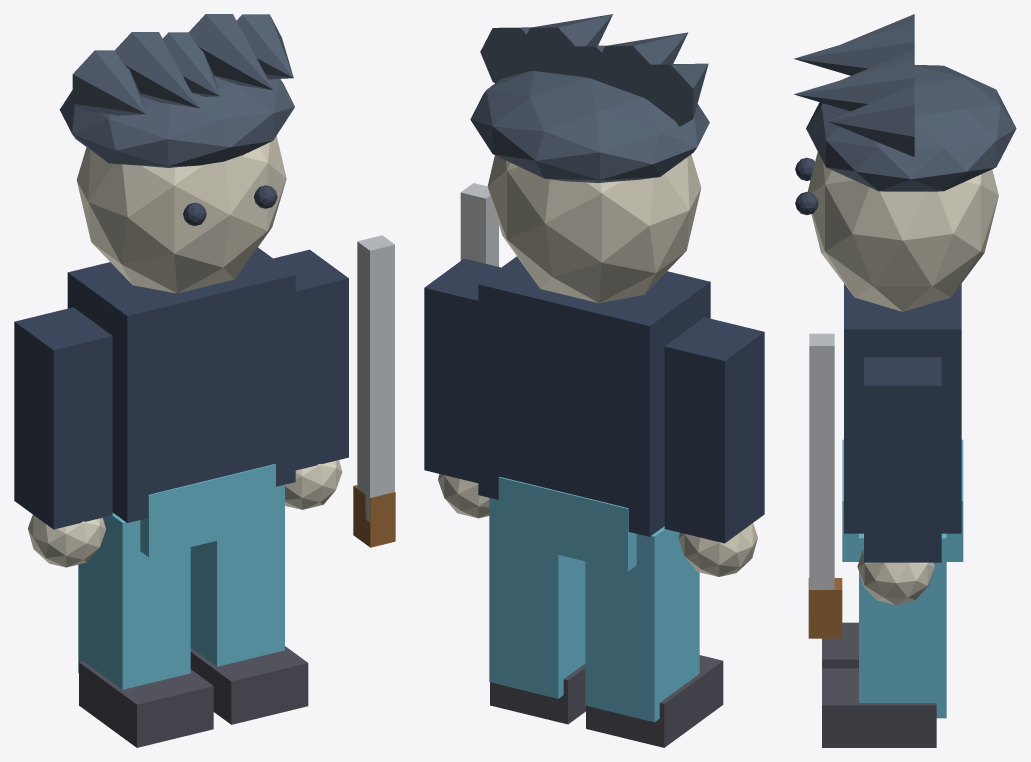
The model's file is aki.glb.
3 views of the same model, side by side, from view 1: azimuth 30°, elevation 25°; view 2: azimuth 150°, elevation 25°; view 3: azimuth 270°, elevation 25° (orthographic). The views are drawn at different scales.
Visible parts, largest first — view 1: part_000, part_010, part_002, part_004, part_013, part_008, part_006, part_020, part_001, part_005, part_009, part_014 (+7 smaller); view 2: part_000, part_010, part_002, part_013, part_004, part_008, part_006, part_001, part_005, part_017, part_015, part_014 (+6 smaller); view 3: part_010, part_006, part_013, part_000, part_008, part_020, part_009, part_018, part_015, part_017, part_007, part_019 (+3 smaller).
Boxes of the visible parts, box(x1,y1,x2,y2) form: part_000: box(67, 247, 295, 522); part_010: box(76, 136, 286, 293); part_002: box(14, 307, 112, 529); part_004: box(78, 513, 190, 689); part_013: box(59, 76, 294, 167); part_008: box(190, 484, 284, 666); part_006: box(273, 249, 348, 470); part_020: box(357, 235, 394, 522); part_001: box(140, 464, 275, 557); part_005: box(79, 661, 213, 747); part_009: box(190, 646, 308, 724); part_014: box(72, 50, 145, 115); part_000: box(478, 256, 710, 536); part_010: box(487, 154, 701, 303); part_002: box(664, 317, 764, 543); part_013: box(470, 71, 709, 183); part_004: box(585, 526, 699, 722); part_008: box(489, 498, 585, 698); part_006: box(424, 258, 500, 483); part_001: box(498, 476, 636, 571); part_005: box(586, 655, 723, 747); part_017: box(518, 14, 612, 76); part_015: box(593, 32, 688, 102); part_014: box(630, 63, 708, 126); part_010: box(807, 151, 998, 311); part_006: box(864, 357, 941, 562); part_013: box(806, 65, 1016, 191); part_000: box(844, 284, 961, 533); part_008: box(859, 533, 946, 718); part_020: box(809, 333, 834, 595); part_009: box(822, 668, 936, 747); part_018: box(827, 85, 914, 156); part_015: box(793, 22, 914, 75); part_017: box(794, 58, 914, 111); part_007: box(857, 548, 934, 605); part_019: box(808, 578, 842, 638).
Bounding box in the file's own units: 1.08 × 2.17 × 0.6628.
